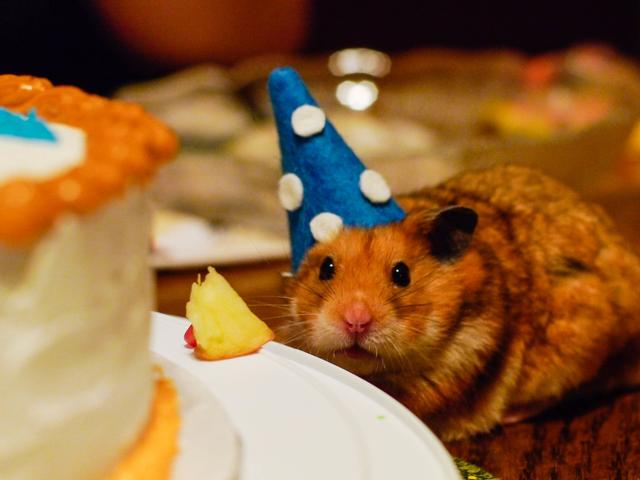mouse: (273, 129, 630, 473)
